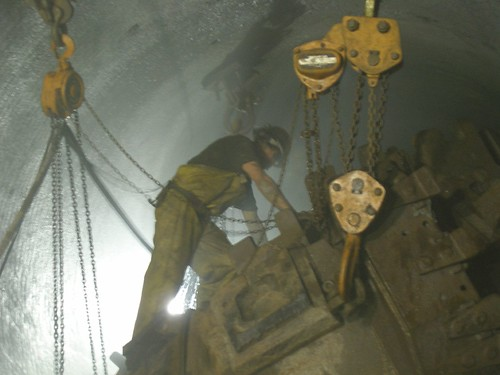person hardhat: (130, 115, 315, 347)
